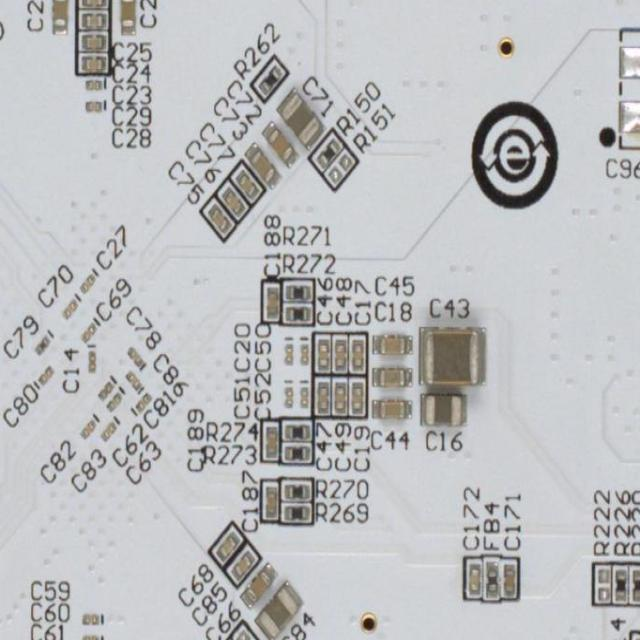capacitor: (418, 324, 485, 384), (252, 575, 304, 640), (273, 86, 326, 148), (242, 137, 282, 189), (237, 559, 279, 608), (261, 118, 299, 166), (418, 392, 466, 426), (229, 546, 259, 580), (204, 200, 231, 233), (219, 183, 245, 217), (371, 333, 410, 354), (371, 396, 410, 417), (214, 528, 238, 562), (364, 350, 404, 370), (235, 168, 258, 198), (316, 336, 331, 371), (119, 0, 134, 35), (80, 54, 106, 73), (332, 336, 346, 371), (350, 336, 364, 371), (333, 378, 347, 412), (316, 378, 330, 412), (350, 378, 364, 412), (264, 423, 278, 457), (264, 483, 278, 517), (52, 0, 66, 34), (95, 377, 114, 402), (80, 11, 107, 28), (264, 284, 278, 316), (80, 32, 106, 49), (126, 343, 145, 366), (466, 560, 479, 593), (502, 562, 515, 594), (60, 295, 78, 318), (32, 331, 50, 354), (103, 389, 122, 410), (78, 272, 96, 294), (124, 368, 142, 390), (133, 388, 150, 411), (78, 417, 95, 440), (98, 417, 115, 440), (80, 320, 96, 342), (84, 96, 102, 113), (86, 347, 97, 373), (82, 610, 100, 624), (84, 78, 102, 90), (284, 342, 293, 365), (300, 342, 309, 365), (284, 384, 293, 407), (299, 384, 308, 407), (82, 632, 100, 640), (80, 0, 107, 5)
ferrite bead: (484, 557, 499, 595)
pads: (615, 25, 640, 147), (327, 151, 354, 183), (596, 565, 609, 600), (234, 628, 261, 640)
resistor: (256, 62, 283, 94), (313, 136, 340, 168), (284, 283, 312, 300), (282, 421, 310, 438), (282, 442, 310, 459), (282, 481, 310, 498), (282, 502, 310, 519), (284, 304, 310, 321), (614, 566, 627, 600), (630, 566, 640, 600), (633, 634, 640, 640)
